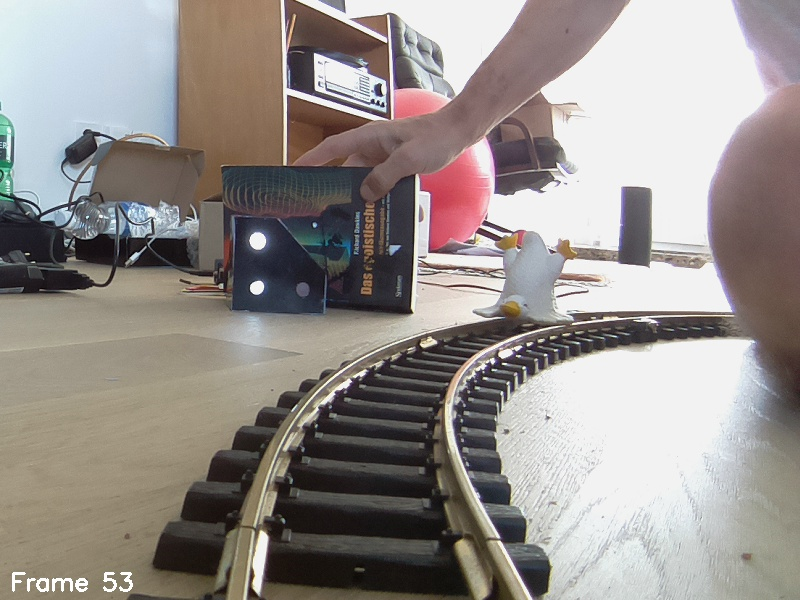Ente: (470, 227, 575, 334)
Fahrt: (231, 214, 325, 314)
